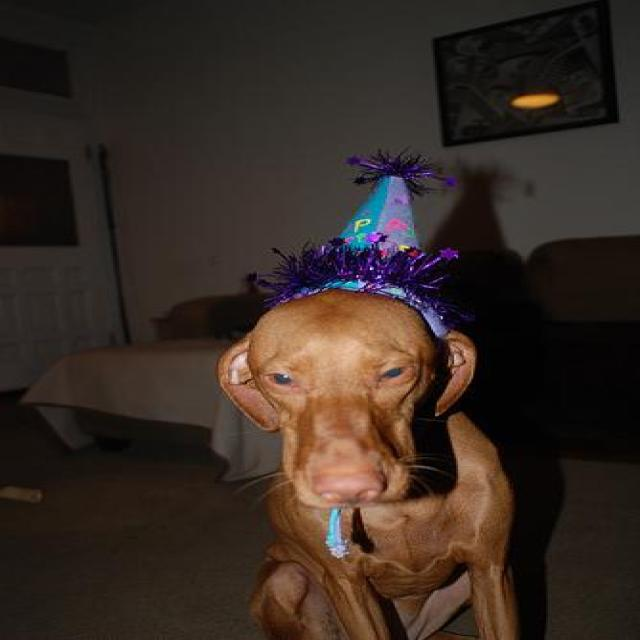vizsla: (211, 296, 517, 638)
